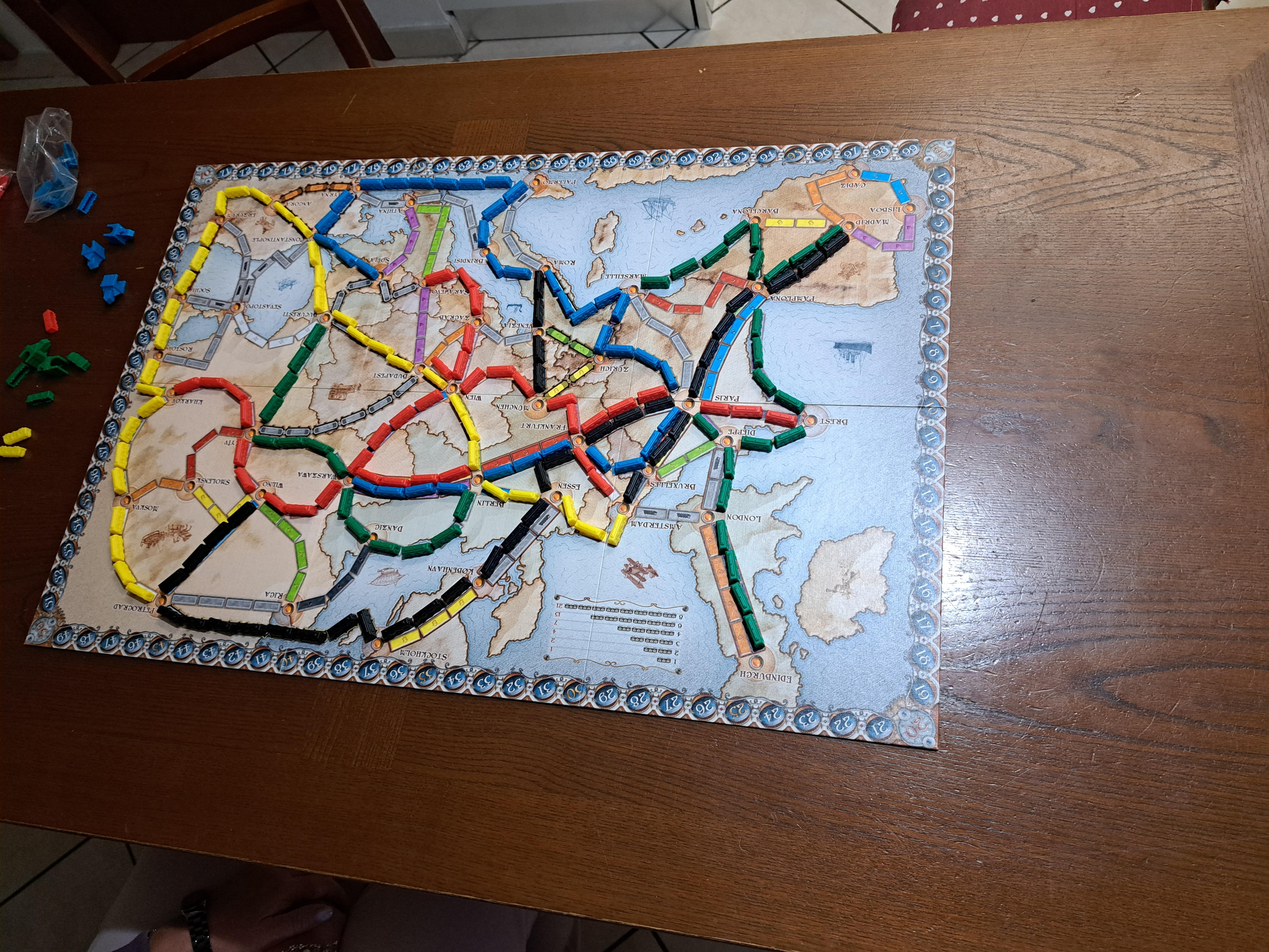corner_bl: (25, 613, 59, 646)
corner_br: (892, 705, 939, 749)
corner_tl: (190, 165, 218, 186)
corner_tr: (922, 137, 955, 165)
